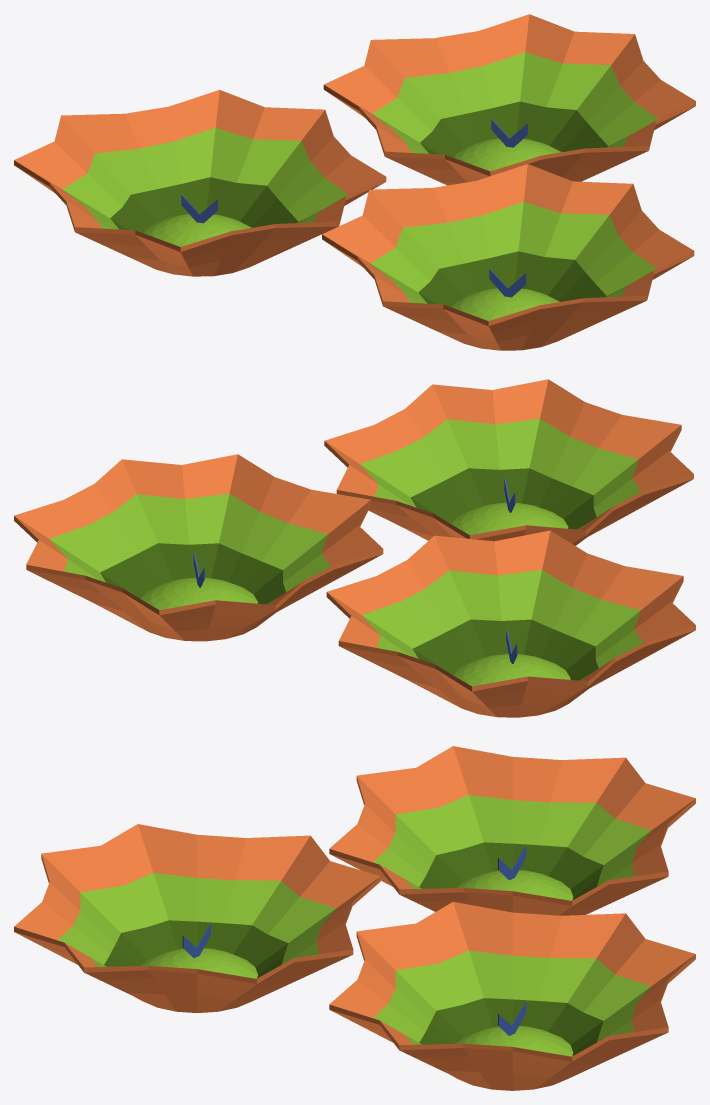
The model's file is KUE APE.FBX.
The picture shows the model from 3 angles, top to bottom: view 1: azimuth 30°, elevation 25°; view 2: azimuth 150°, elevation 25°; view 3: azimuth 270°, elevation 25°; orthographic projection. The views are drawn at different scales.
Parts seen in each view (by area): view 1: SURABI, SURABI02, SURABI01; view 2: SURABI01, SURABI, SURABI02; view 3: SURABI01, SURABI02, SURABI.
Boxes of the visible parts, x1=… form: SURABI: x1=14, y1=89, x2=386, y2=276; SURABI02: x1=322, y1=164, x2=694, y2=350; SURABI01: x1=323, y1=14, x2=695, y2=185; SURABI01: x1=14, y1=454, x2=383, y2=641; SURABI: x1=326, y1=530, x2=695, y2=717; SURABI02: x1=324, y1=379, x2=693, y2=545; SURABI01: x1=329, y1=902, x2=695, y2=1090; SURABI02: x1=14, y1=824, x2=380, y2=1013; SURABI: x1=329, y1=746, x2=695, y2=915.
Size of the model in its own units: 75.09 by 10.35 by 69.65.
